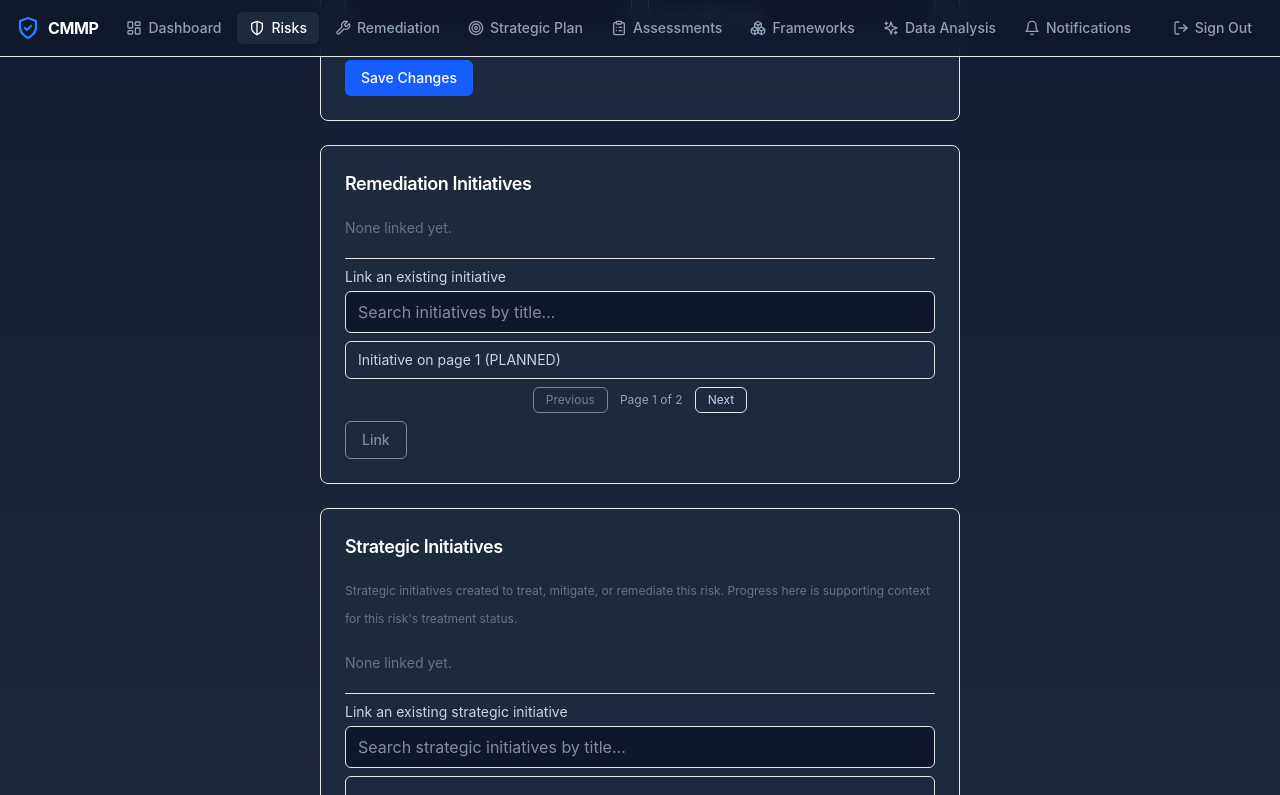
Test: RiskDetailPage initiative picker › advances to the next page and requests it from the API
(page scrolled)
Expected: the button "Initiative on page 1 (PLANNED)" is shown, x1=346 y1=342 x2=934 y2=378
Expected: the text "Page 1 of 2" is shown, x1=620 y1=392 x2=683 y2=408
Click the button "Next" at coordinates (721, 400), box x1=695 y1=387 x2=747 y2=413
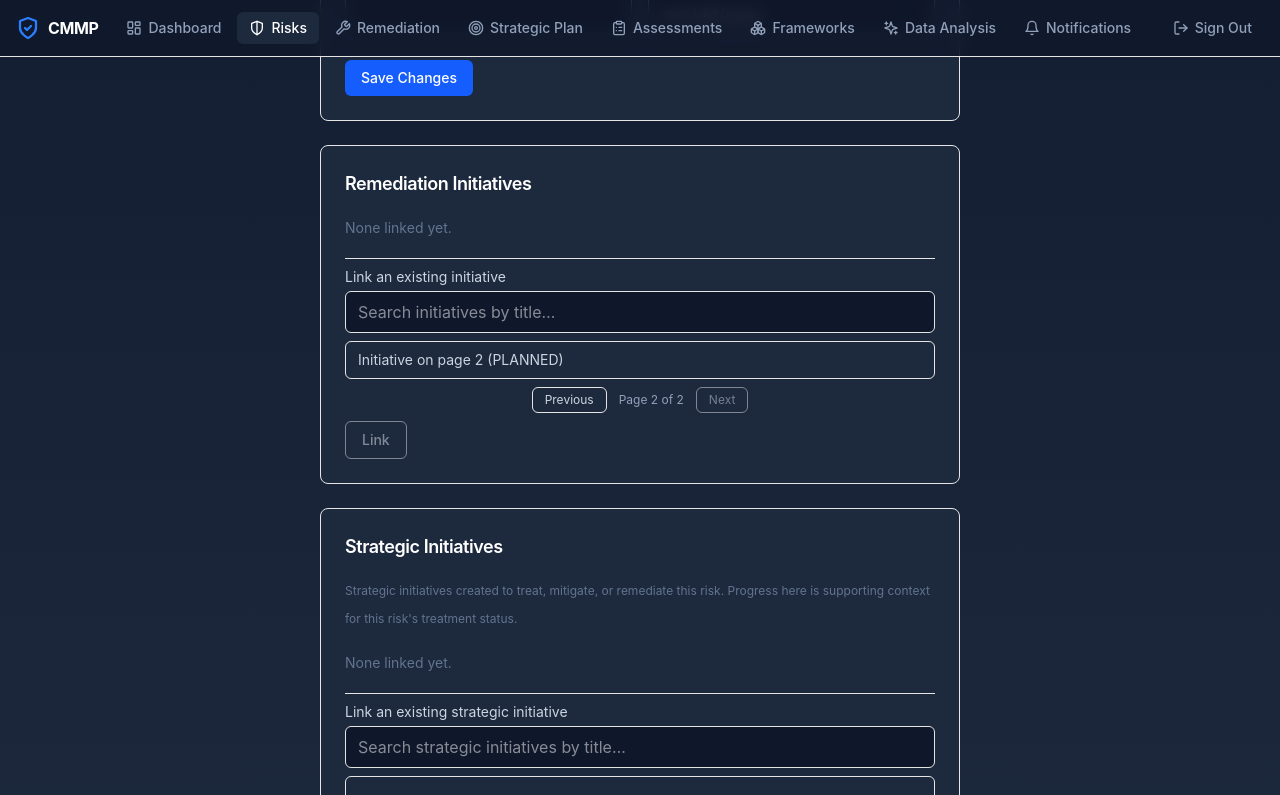
Expected: the button "Initiative on page 2 (PLANNED)" is shown, x1=346 y1=342 x2=934 y2=378
